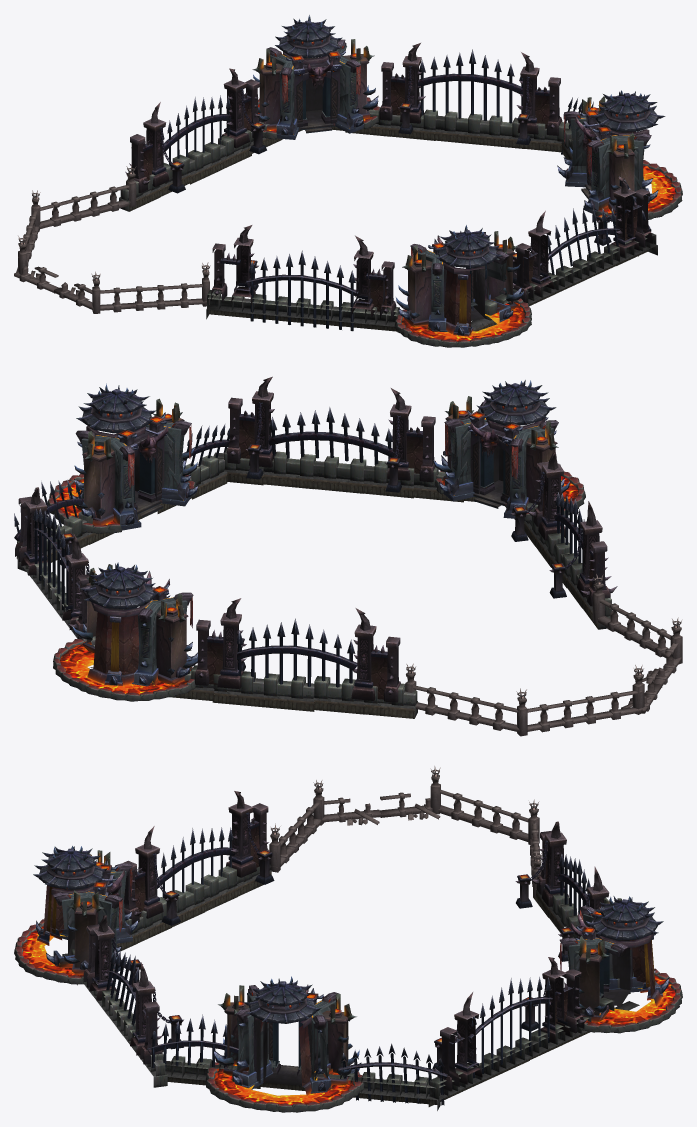
File: volcano_02_weilan.FBX
3 views of the same model, one above another, from view 1: azimuth 30°, elevation 25°; view 2: azimuth 150°, elevation 25°; view 3: azimuth 270°, elevation 25° (orthographic). The views are drawn at different scales.
Visible parts, largest first — view 1: weilan; view 2: weilan; view 3: weilan.
Part boxes in pixels (x1,y1,x2,y2): weilan: (14, 15, 682, 347); weilan: (14, 376, 682, 736); weilan: (14, 766, 682, 1112).
Bounding box in the file's own units: 46.51 × 8.59 × 42.11.
